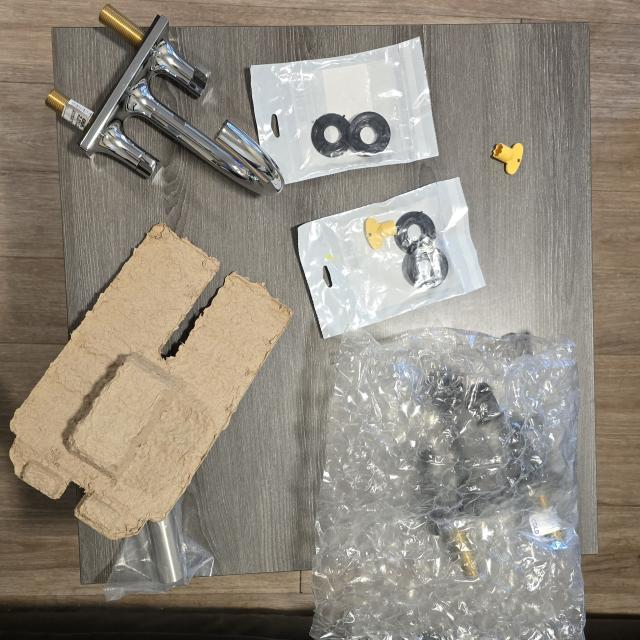10: (46, 5, 282, 194)
11o: (104, 500, 214, 600)
12: (298, 177, 485, 338)
13o: (250, 38, 438, 183)
14: (491, 143, 524, 175)
9c: (311, 328, 585, 640)
